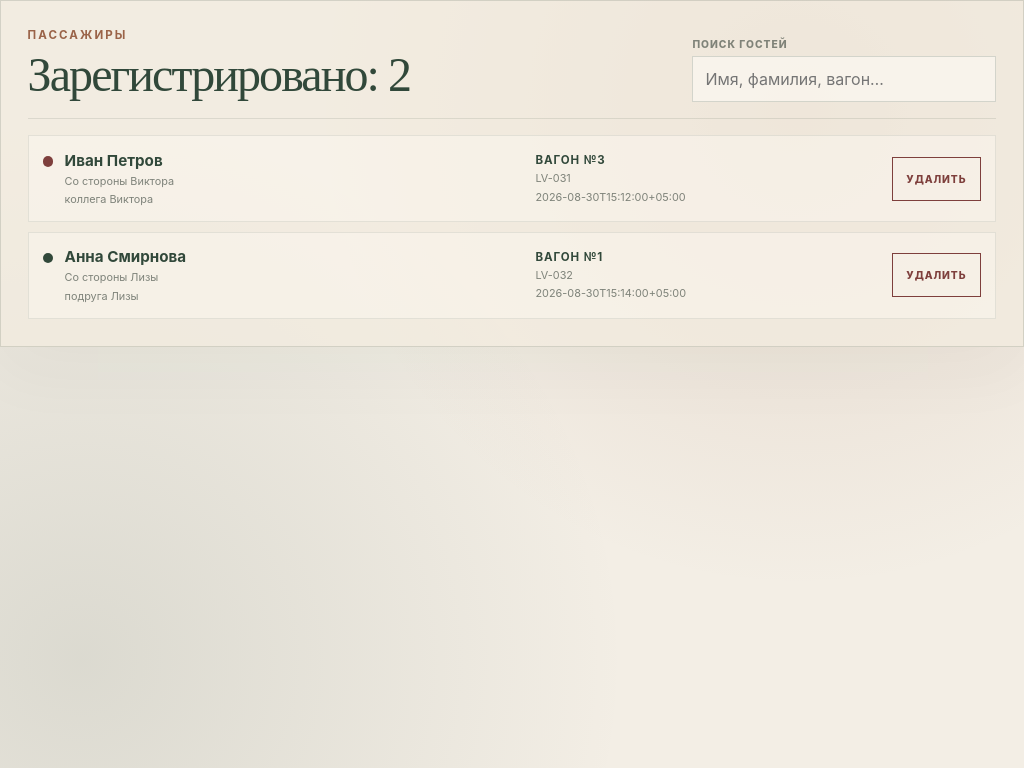
AdminGuestsPage › requires explicit confirmation before deleting a duplicate
Later steps or results of the test are not shown.
Click the button with aria-label "УДАЛИТЬ Иван Петров" at {"x": 936, "y": 179}, box [892,157,981,201]
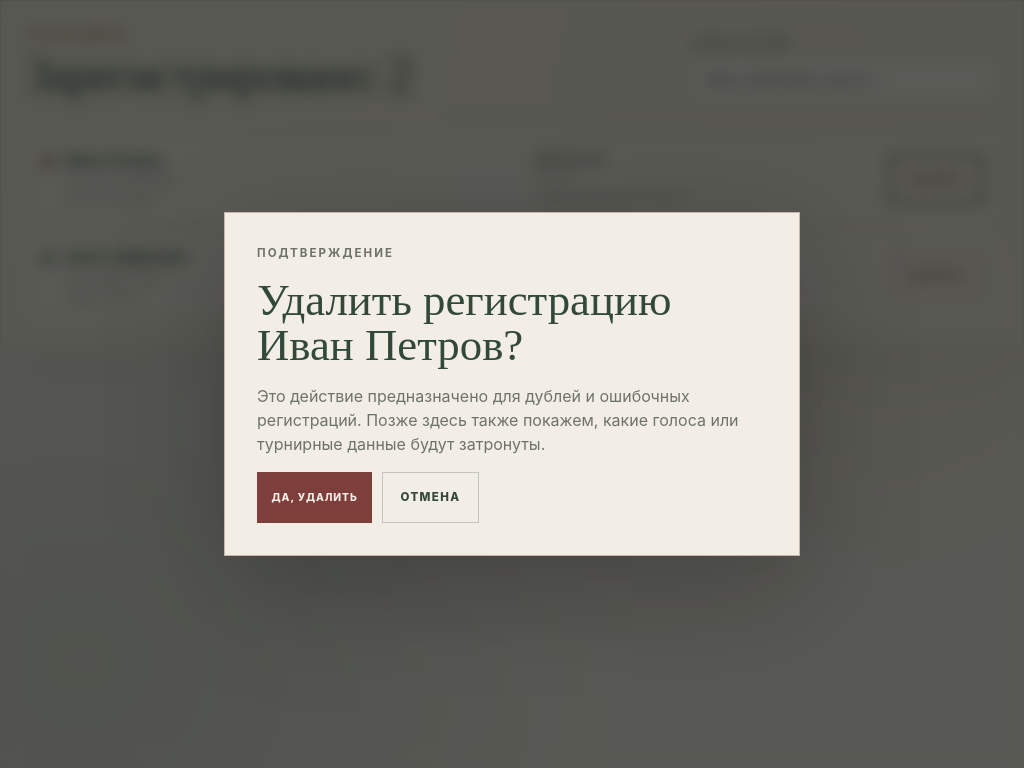
Now the dialog shows "Удалить регистрацию Иван Петров?", box [224,212,800,556]
